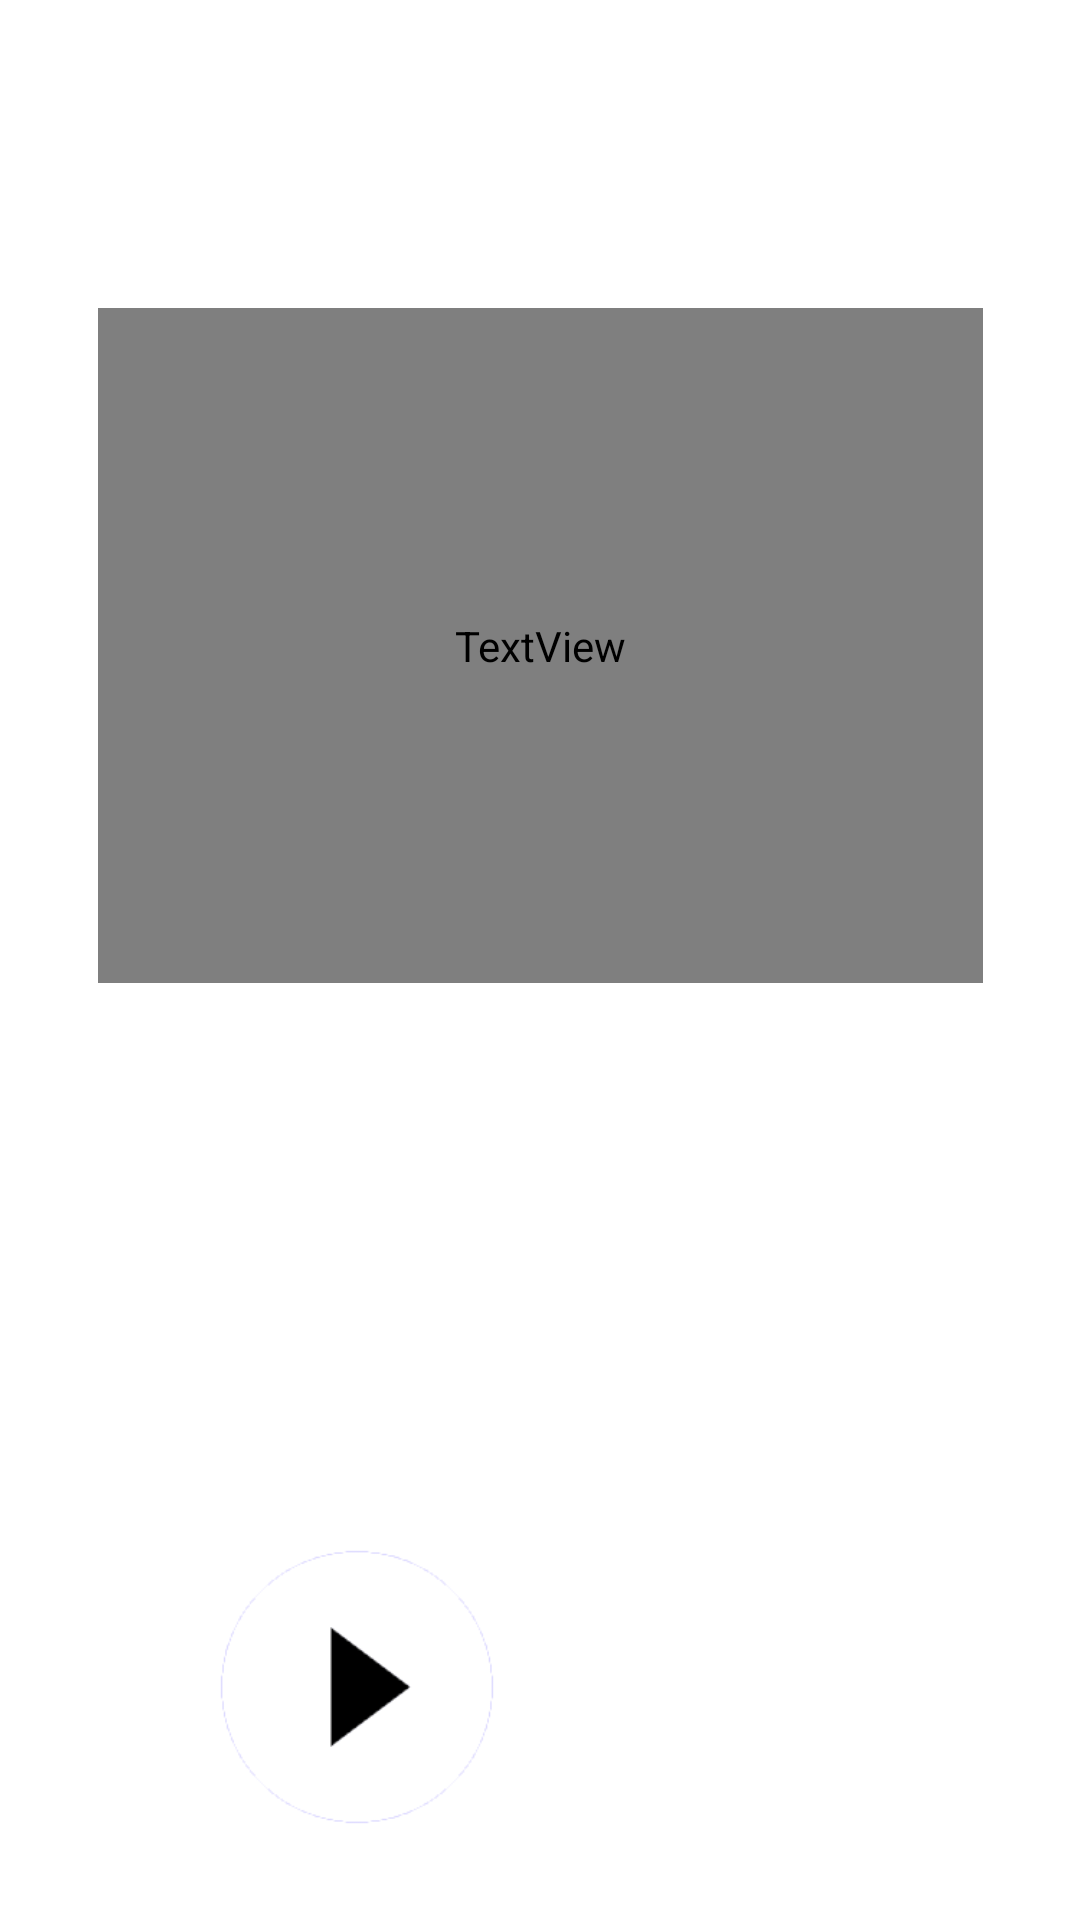

Icons on this 1080x1920 Android screen, each with the point to tap as (x=x, y=y):
play: (x=357, y=1687)
